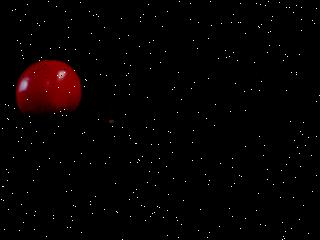Tomato: (16, 60, 82, 120)
